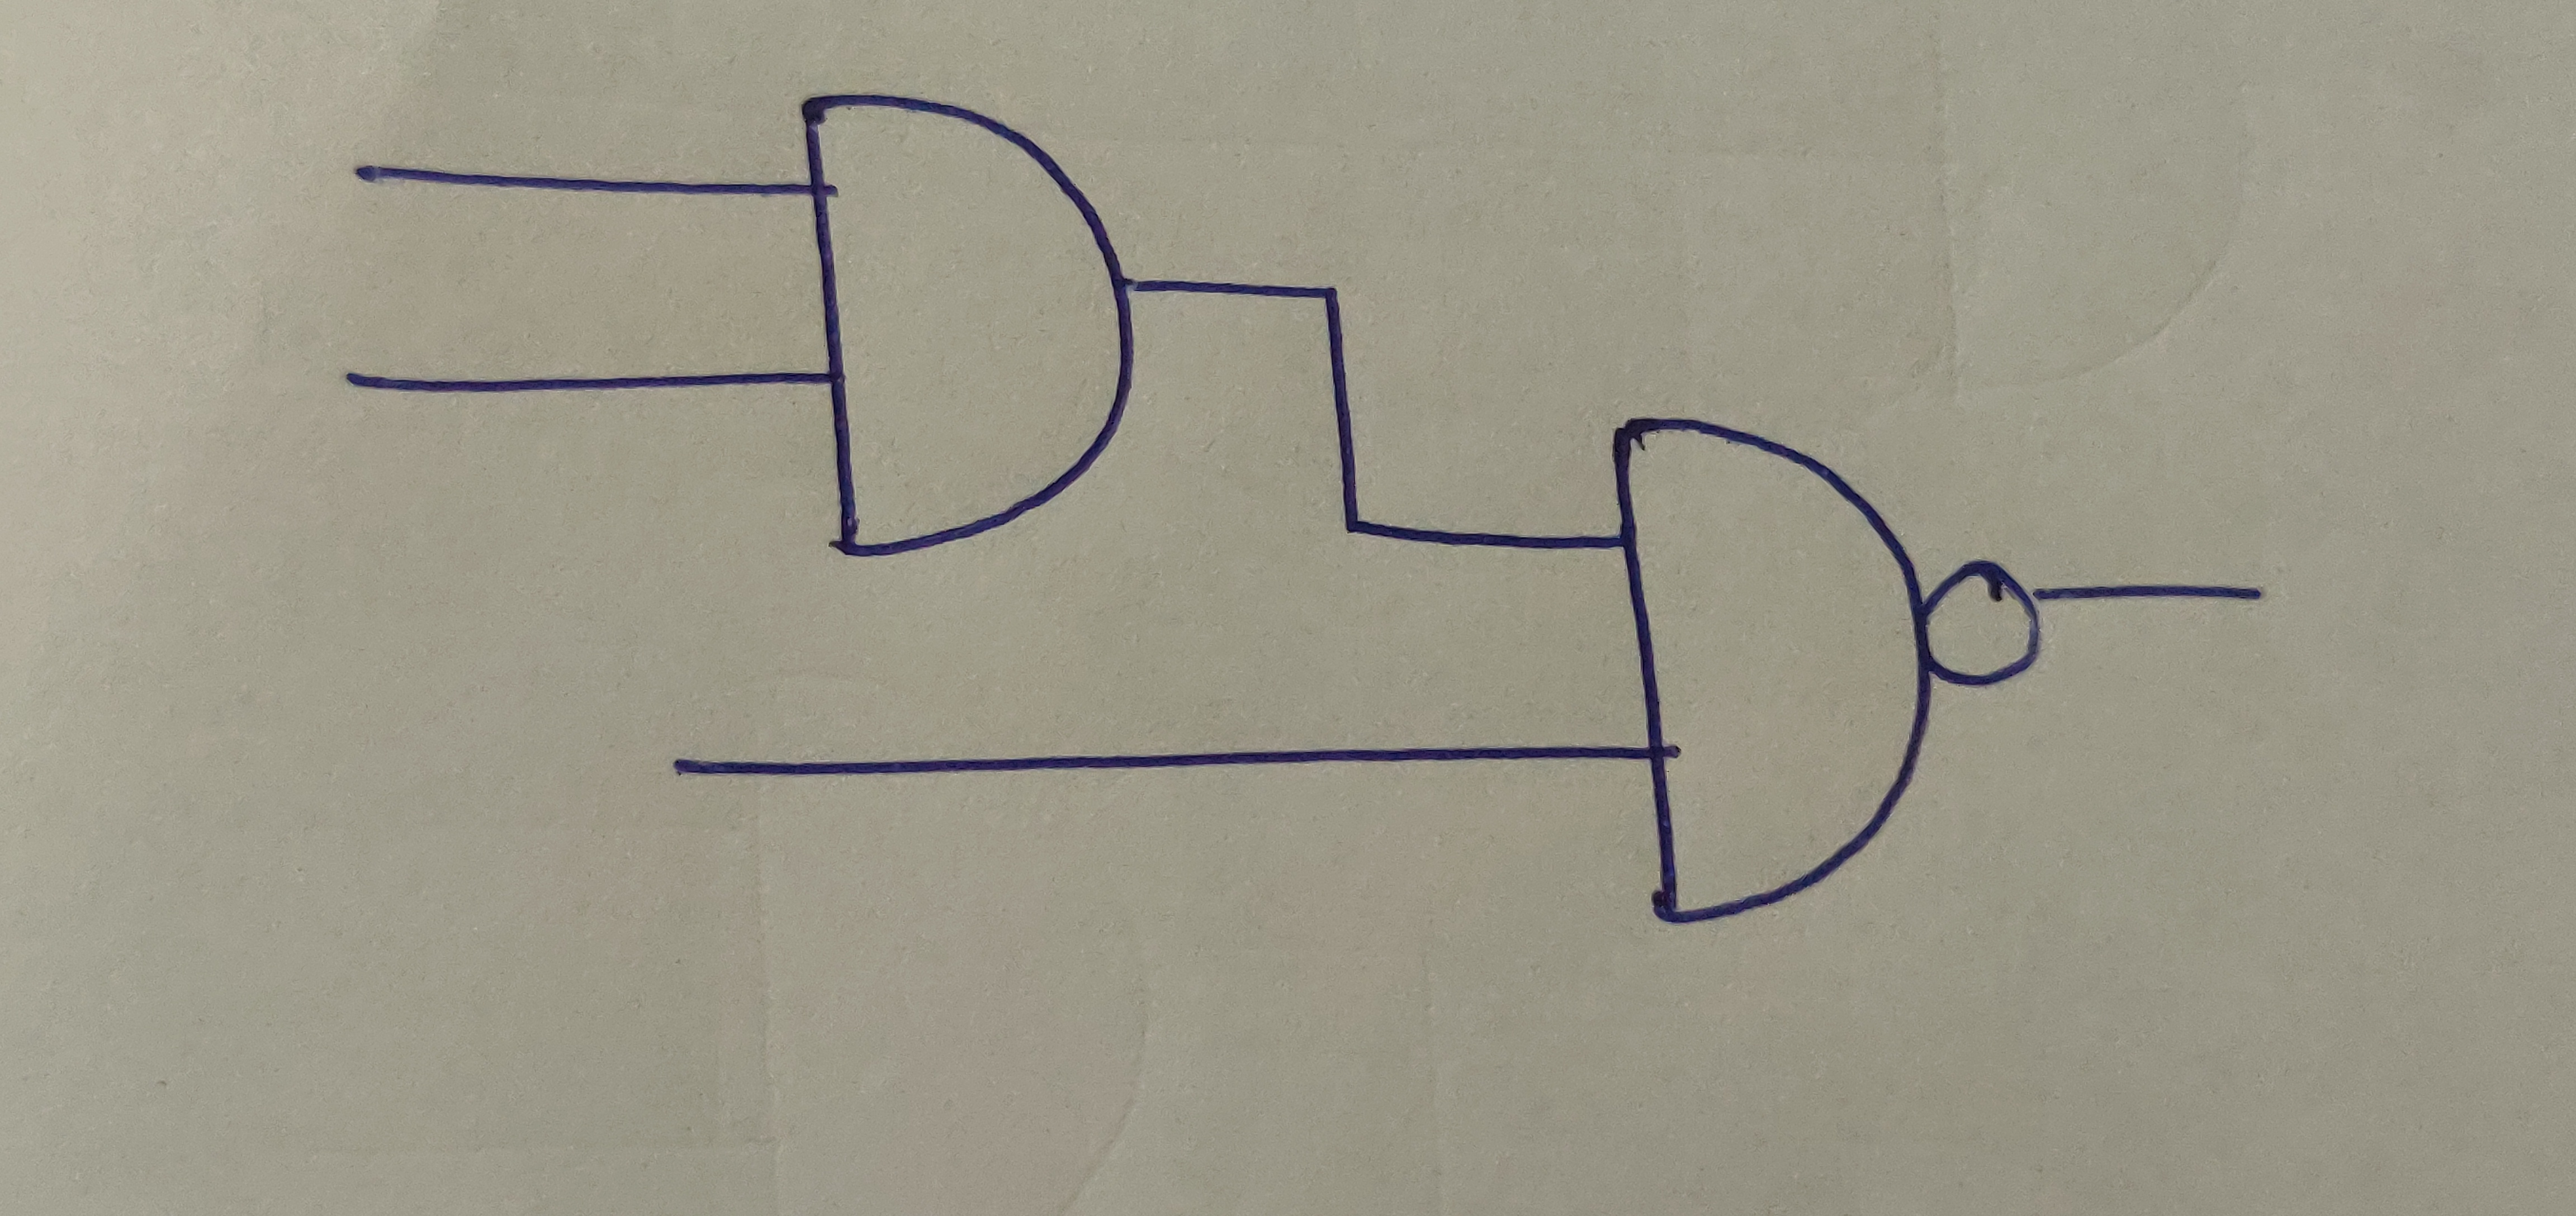and: (1613, 414, 1929, 930), (798, 87, 1134, 554)
not: (1924, 557, 2040, 687)
